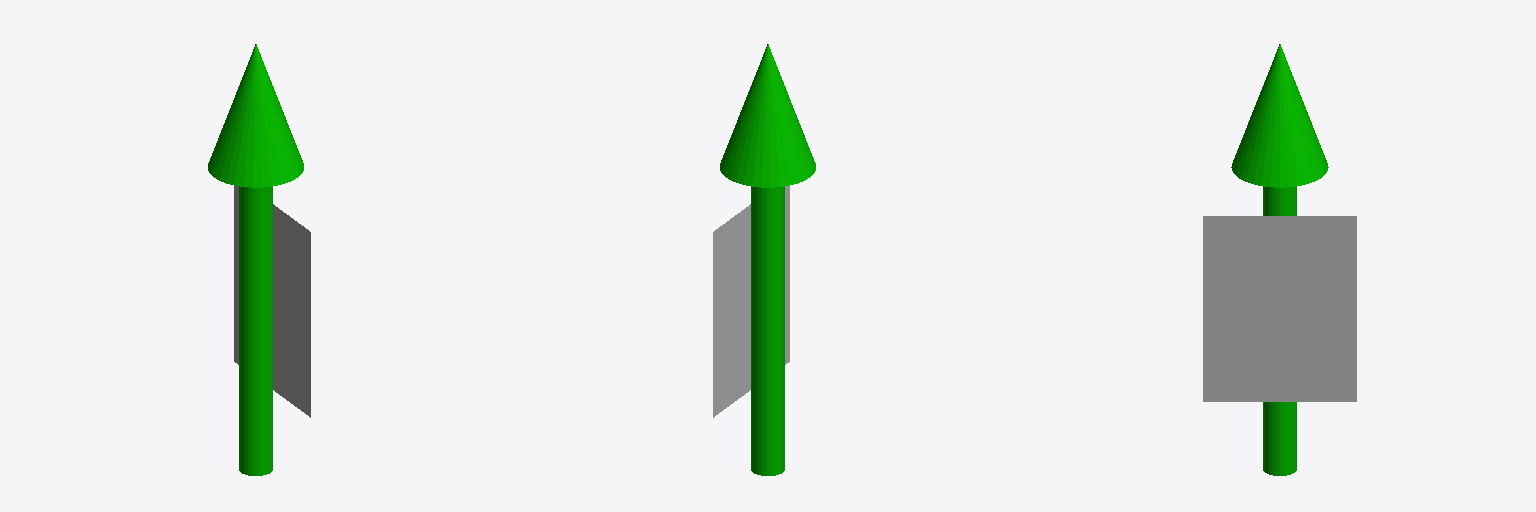
Rendered from greenyazirusi.obj.
The picture shows the model from 3 angles: view 1: azimuth 30°, elevation 25°; view 2: azimuth 150°, elevation 25°; view 3: azimuth 270°, elevation 25°; orthographic projection.
Visible parts, largest first — view 1: yazirusi3_円錐.004; view 2: yazirusi3_円錐.004; view 3: yazirusi3_円錐.004.
Part boxes in pixels (x1,y1,x2,y2): yazirusi3_円錐.004: (208, 44, 310, 475); yazirusi3_円錐.004: (713, 44, 815, 475); yazirusi3_円錐.004: (1203, 44, 1356, 475).
Size of the model in its own units: 0.7579 by 3.66 by 1.2.